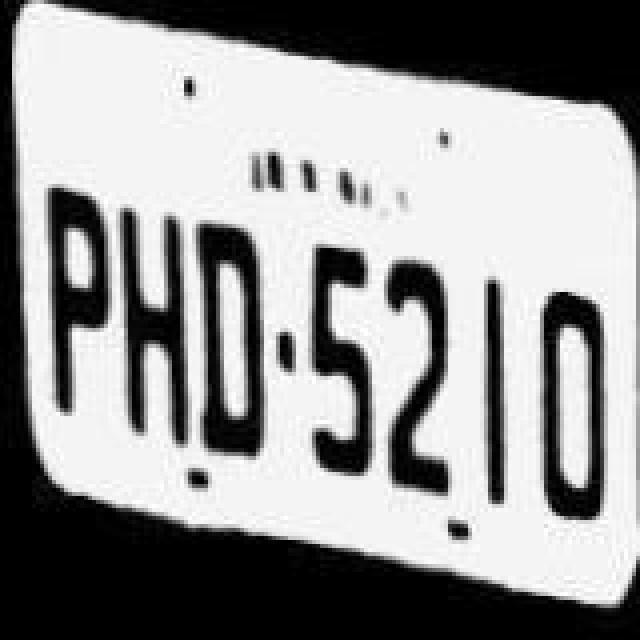1: (464, 250, 512, 518)
2: (370, 250, 446, 514)
5: (306, 232, 378, 488)
D: (198, 208, 270, 472)
H: (116, 196, 192, 452)
O: (522, 282, 614, 530)
P: (40, 180, 124, 436)
